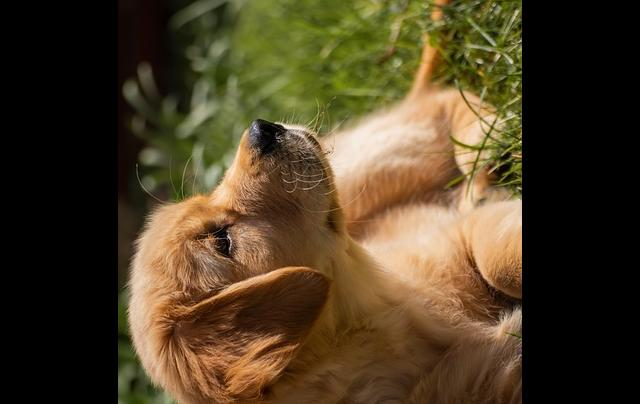Non_Gorille: (123, 11, 522, 404)
